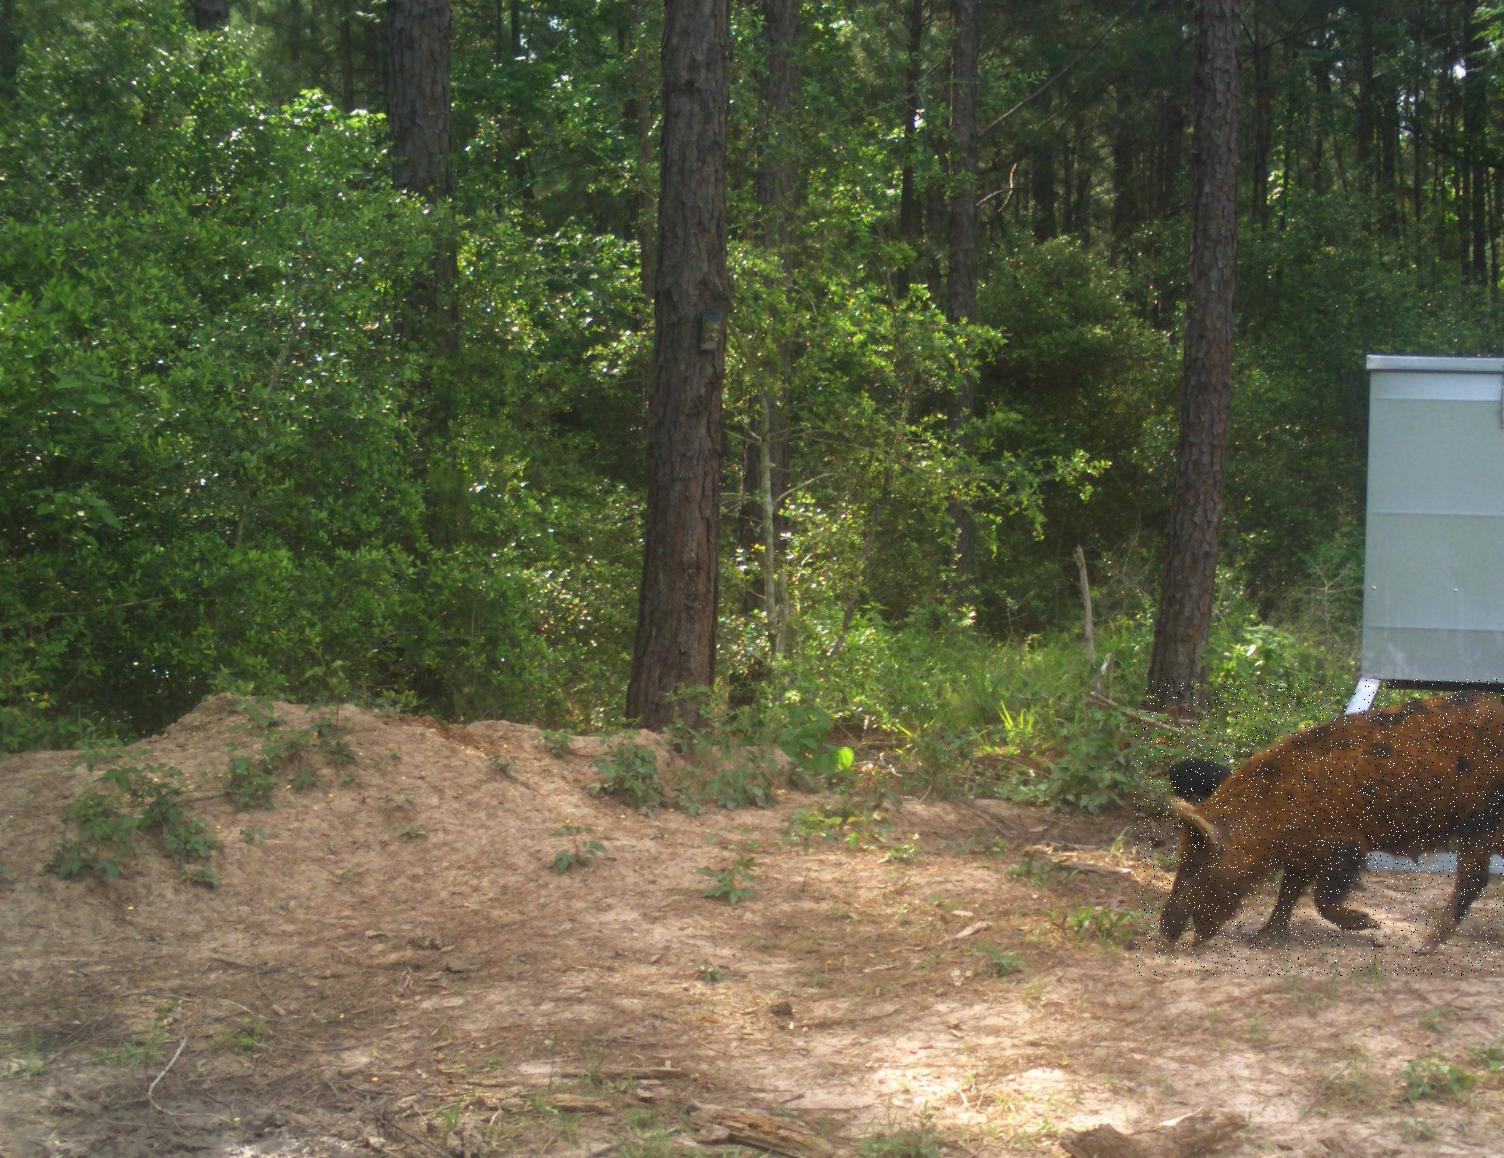Hog: (1134, 679, 1504, 976)
